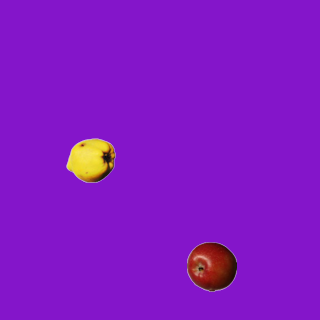Apple Braeburn: (186, 241, 236, 291)
Quince: (65, 135, 115, 185)
